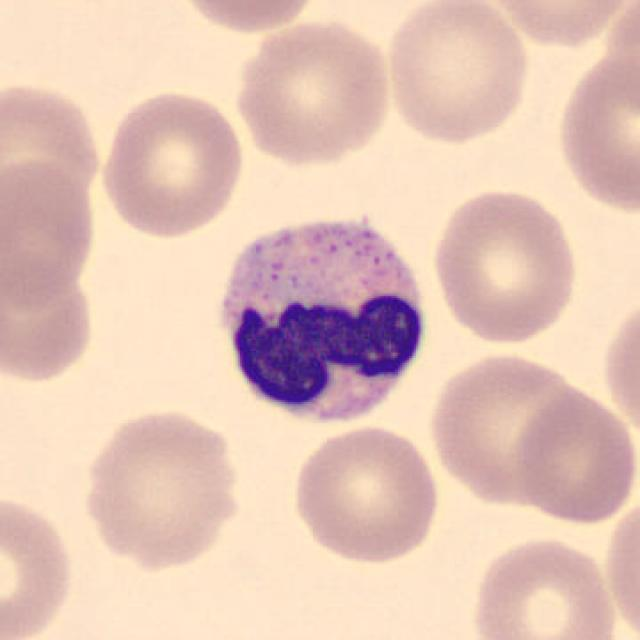Neutrophil: (206, 202, 434, 434)
RBC: (77, 404, 247, 573), (425, 348, 590, 510), (230, 14, 396, 169), (427, 184, 581, 348), (96, 85, 247, 242), (286, 421, 443, 566), (380, 0, 533, 146), (508, 383, 638, 529), (468, 532, 622, 640), (0, 74, 107, 224), (0, 153, 101, 308), (551, 44, 640, 217), (0, 252, 100, 388), (0, 490, 80, 640), (476, 0, 634, 49), (599, 289, 640, 457), (601, 488, 640, 638), (169, 0, 325, 37)
